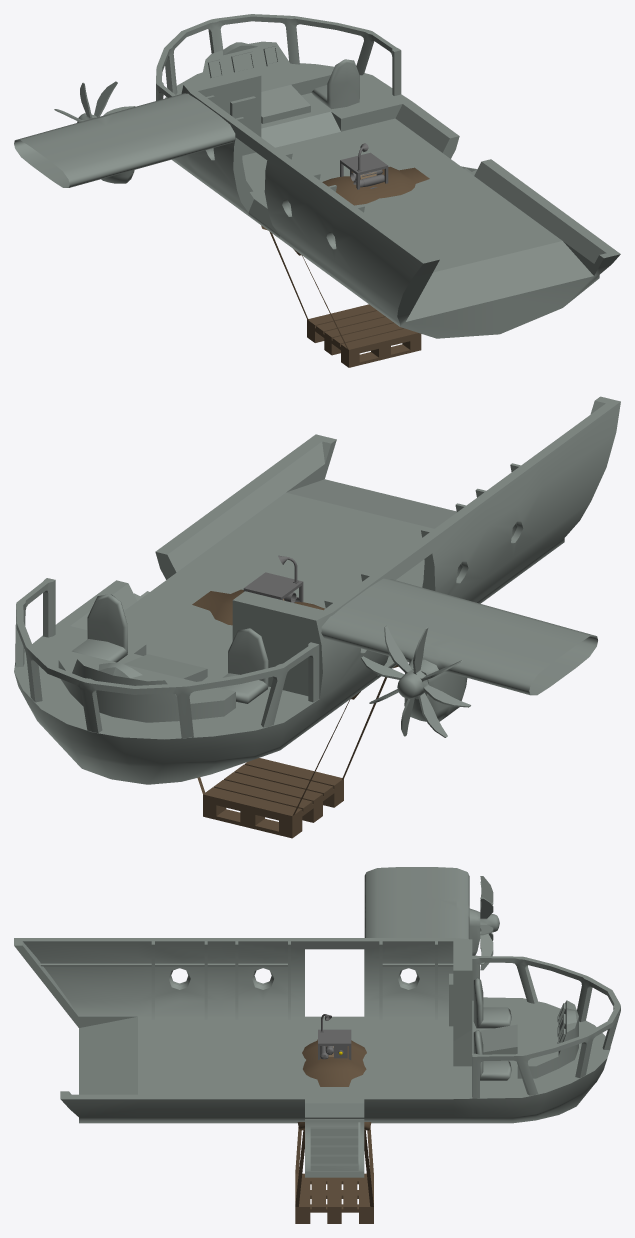
The model's file is Avion_2.fbx.
The picture shows the model from 3 angles, top to bottom: view 1: azimuth 30°, elevation 25°; view 2: azimuth 150°, elevation 25°; view 3: azimuth 270°, elevation 25°; orthographic projection. The views are drawn at different scales.
Parts seen in each view (by area): view 1: Map, Parachute, Workbench, Helice; view 2: Map, Parachute, Helice, Workbench; view 3: Map, Parachute, Rampe, Helice, Workbench.
Part boxes in pixels (x1,y1,x2,y2): Map: [14, 14, 620, 338]; Parachute: [261, 166, 429, 367]; Workbench: [340, 143, 388, 189]; Helice: [54, 81, 135, 122]; Map: [14, 396, 620, 784]; Parachute: [192, 589, 398, 838]; Helice: [361, 626, 470, 737]; Workbench: [243, 555, 303, 602]; Map: [14, 867, 620, 1123]; Parachute: [295, 1039, 373, 1223]; Rampe: [305, 1119, 364, 1177]; Helice: [480, 876, 499, 970]; Workbench: [318, 1014, 351, 1059].
Size of the model in its own units: 66.09 by 83.5 by 36.14.
